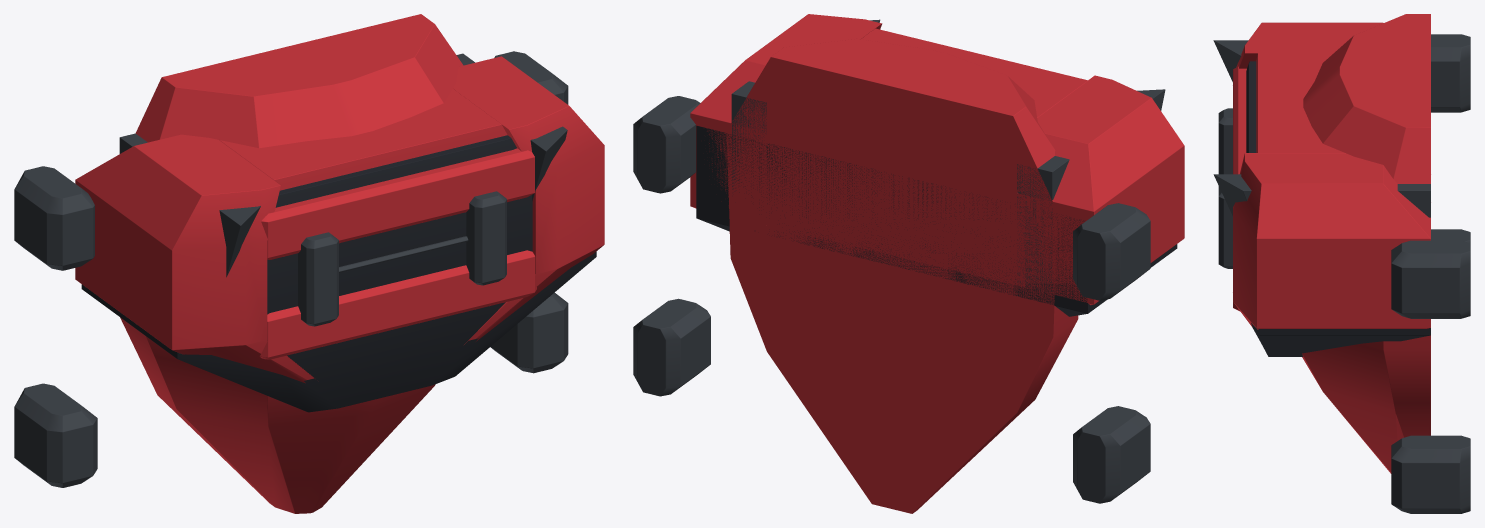
The model's file is UpperArmFront_Set03_Overclock.fbx.
The picture shows the model from 3 angles, left to right: view 1: azimuth 30°, elevation 25°; view 2: azimuth 150°, elevation 25°; view 3: azimuth 270°, elevation 25°; orthographic projection. The views are drawn at different scales.
Parts seen in each view (by area): view 1: UpperArmFront_Set03_Overclock; view 2: UpperArmFront_Set03_Overclock; view 3: UpperArmFront_Set03_Overclock.
Boxes of the visible parts, bbox=[...] form: UpperArmFront_Set03_Overclock: bbox=[14, 14, 604, 513]; UpperArmFront_Set03_Overclock: bbox=[633, 14, 1184, 513]; UpperArmFront_Set03_Overclock: bbox=[1213, 14, 1470, 513].
Bounding box in the file's own units: 0.41 × 0.34 × 0.1948.
